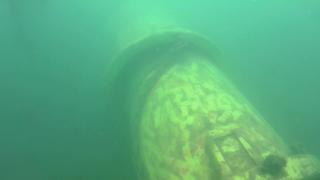pipe: (103, 7, 320, 180)
